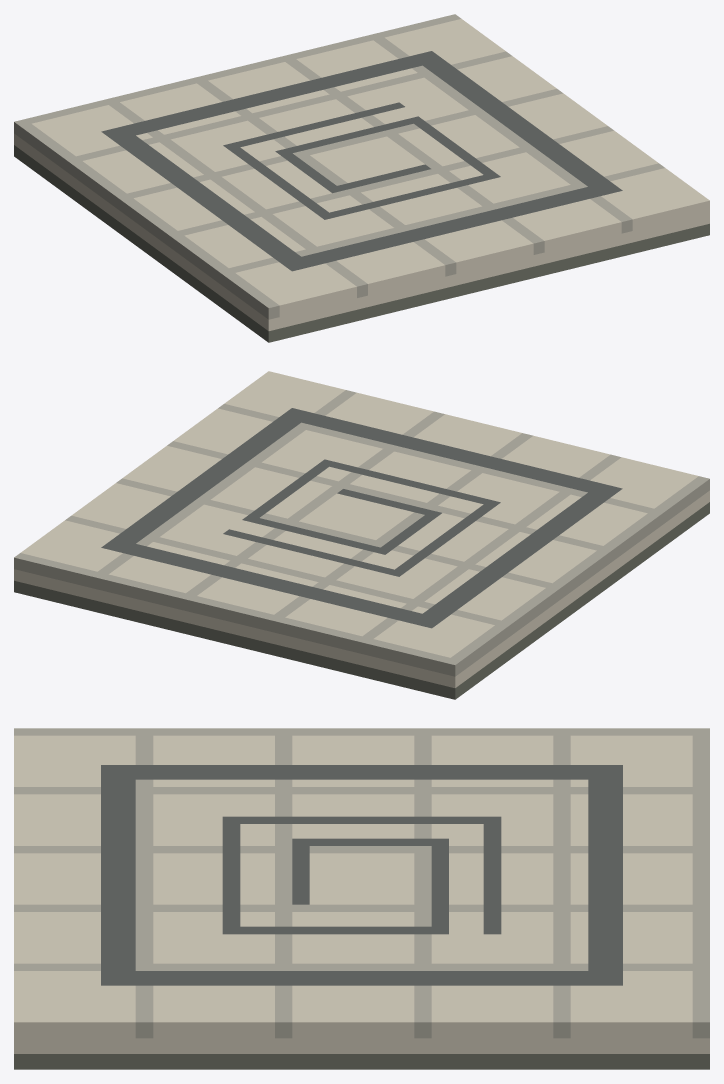
File: visual-far.glb
The picture shows the model from 3 angles, top to bottom: view 1: azimuth 30°, elevation 25°; view 2: azimuth 150°, elevation 25°; view 3: azimuth 270°, elevation 25°; orthographic projection. The views are drawn at different scales.
Visible parts, largest first — view 1: 庭院与观景地坪母版; view 2: 庭院与观景地坪母版; view 3: 庭院与观景地坪母版.
Boxes of the visible parts, left/top/right/bottom form: 庭院与观景地坪母版: left=14, top=14, right=709, bottom=342; 庭院与观景地坪母版: left=14, top=371, right=709, bottom=699; 庭院与观景地坪母版: left=14, top=728, right=709, bottom=1069.
Size of the model in its own units: 8 by 0.6 by 8.
4 materials, 4 textured.
